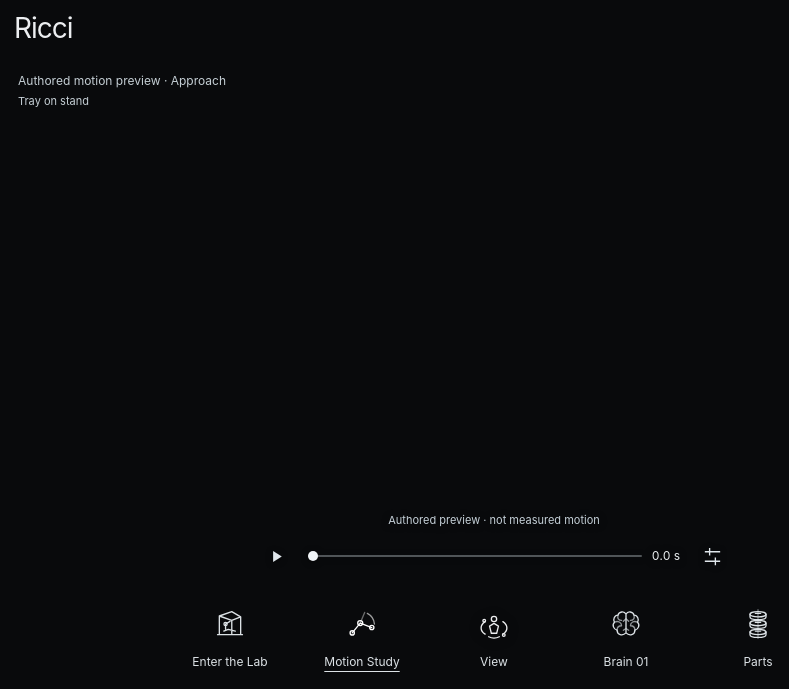
it: opens motion controls without changing the camera or authored clock; selection, expansion and Escape preserve them
This screenshot has width=789, height=689.
Earlier steps of the test are not shown.
Later steps or results of the test are not shown.
Step 1. Click the button "Motion Study" → (362, 636), box [310,603,414,670]
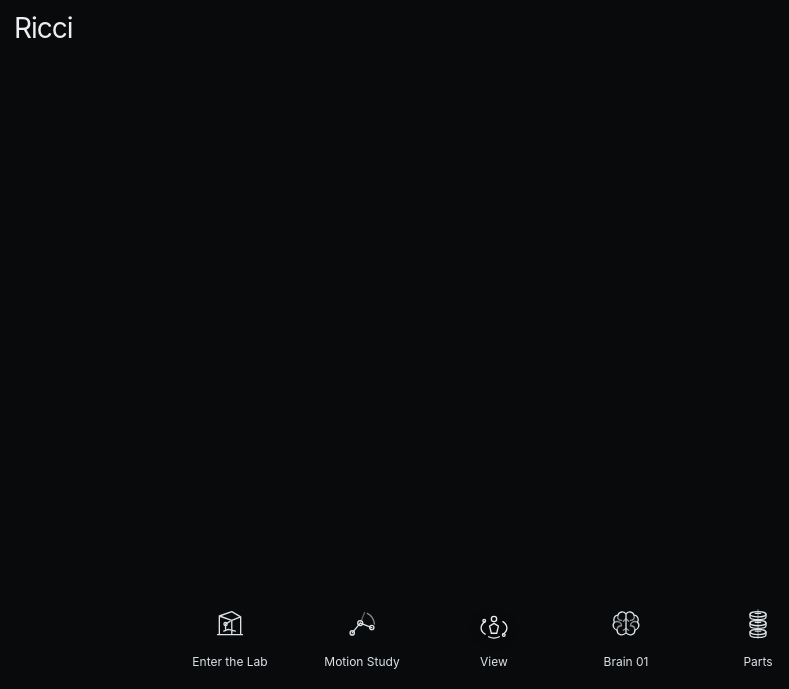
Result: the element with class "ricci-transport" is gone
